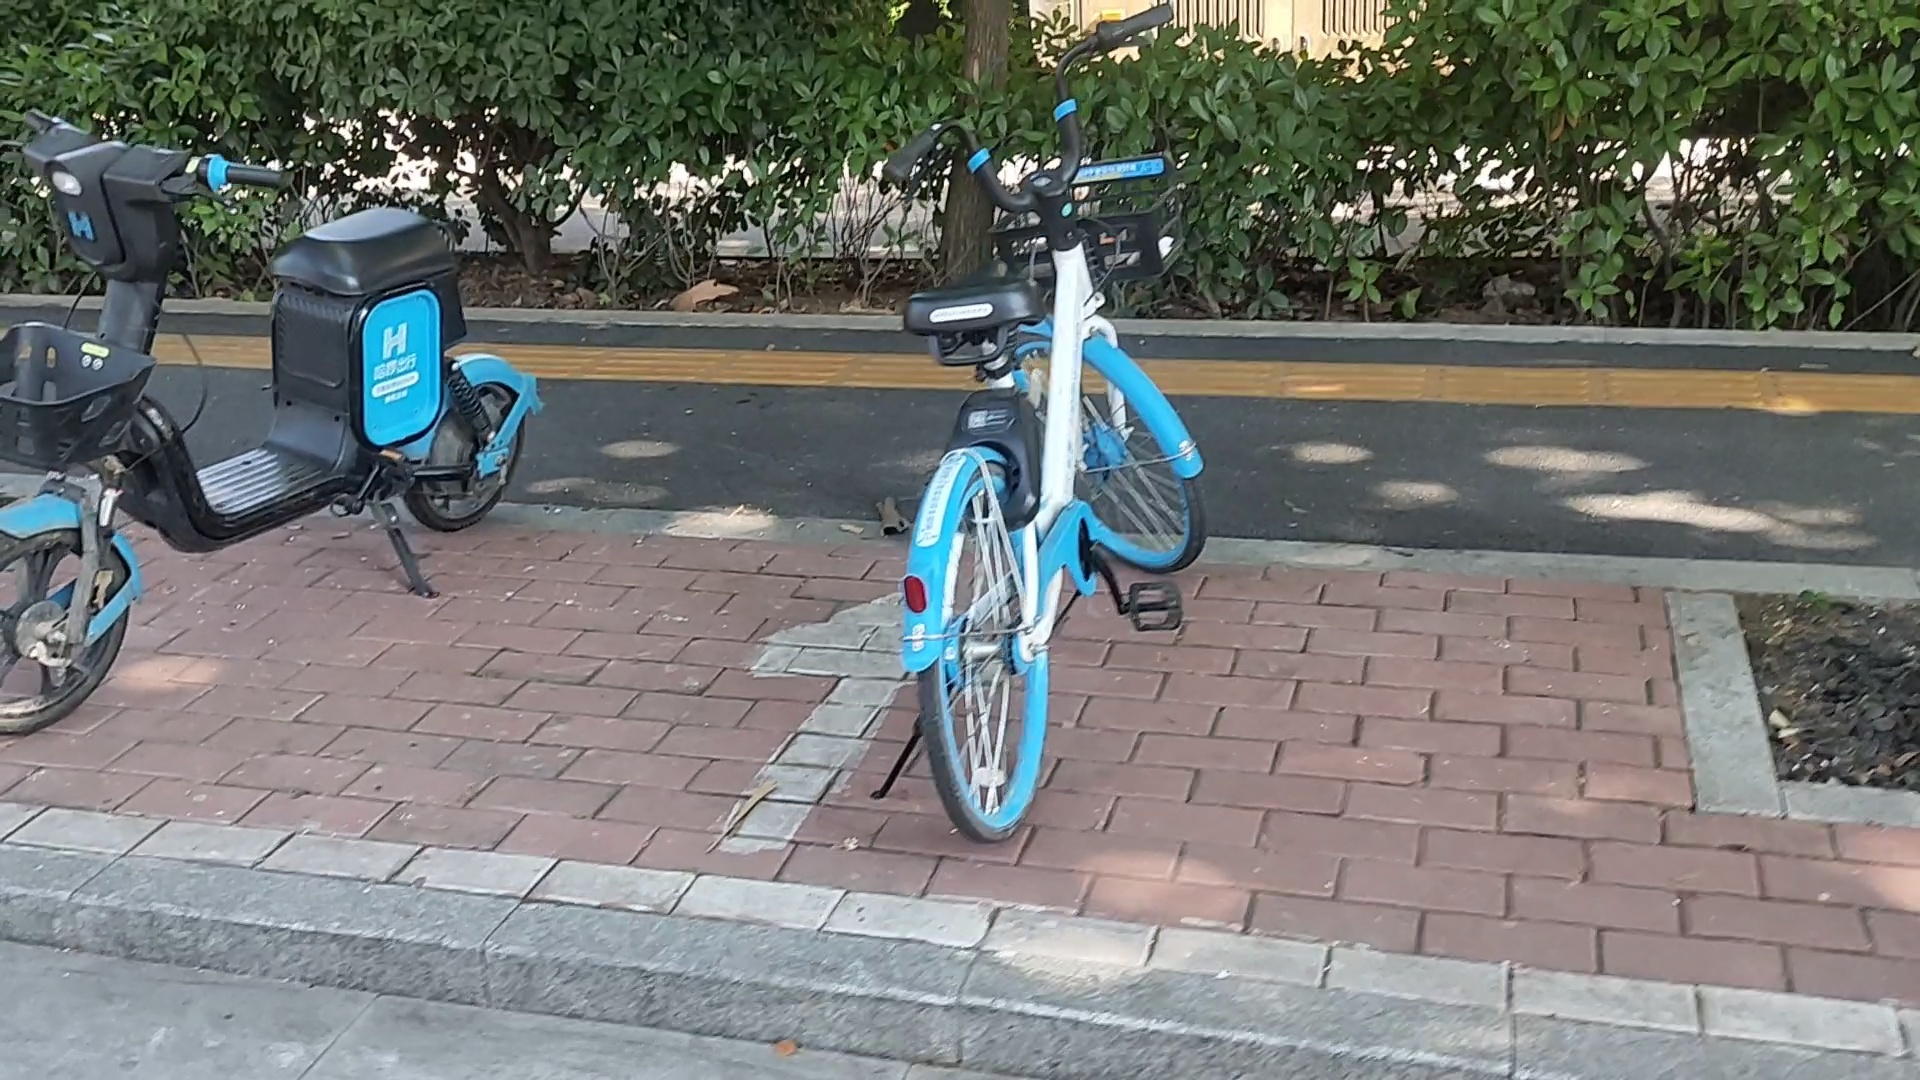non-vehicle: (0, 96, 549, 752), (886, 84, 1201, 856)
